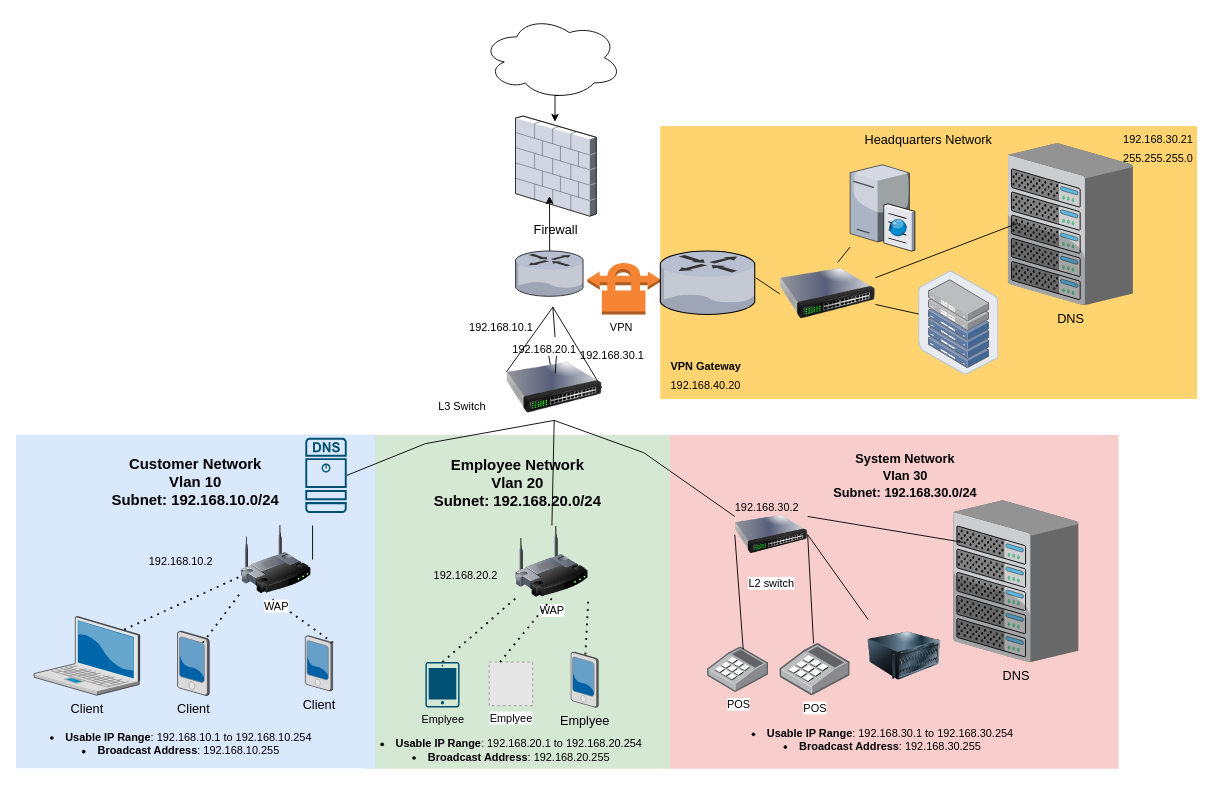
Some shapes in this 1223 by 804 pixel diagram are drawn without their labels. Grey dashed boxes stand in for pictures. Here are the shapes that lost their labels. From the top down, the centre of each, then its label:
(x=551, y=57): Internet
(x=882, y=206): FTP Server
(x=549, y=273): Router
(x=707, y=282): HQ Router
(x=827, y=293): Switch
(x=958, y=322): Data Server
(x=325, y=475): External DNS
(x=904, y=655): POS Server
